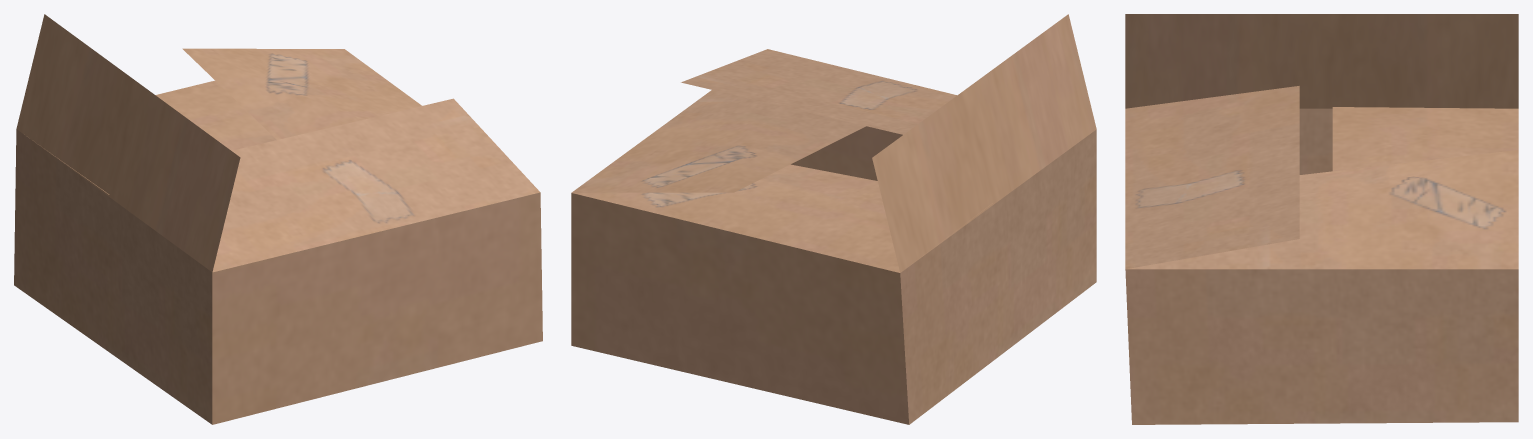
File: cartons3.fbx
3 renders of one model, left to right at view 1: azimuth 30°, elevation 25°; view 2: azimuth 150°, elevation 25°; view 3: azimuth 270°, elevation 25°, orthographic.
Parts seen in each view (by area): view 1: pCube3; view 2: pCube3; view 3: pCube3.
Boxes of the visible parts, left/top/right/bottom form: pCube3: left=14, top=14, right=542, bottom=424; pCube3: left=571, top=14, right=1096, bottom=424; pCube3: left=1125, top=14, right=1518, bottom=424.
Size of the model in its own units: 1.67 by 1.23 by 1.67.
